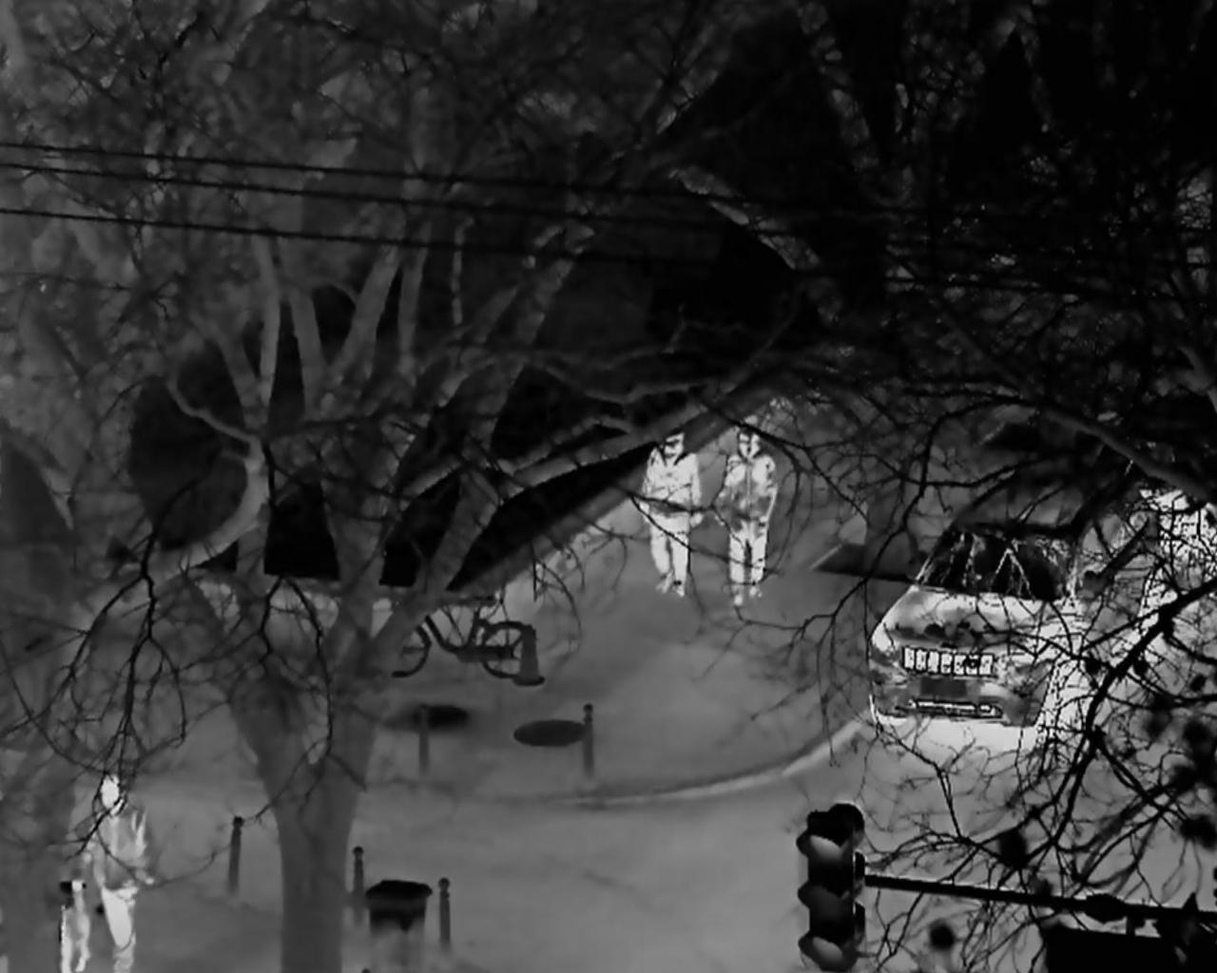person: (84, 773, 159, 973), (712, 428, 778, 607), (637, 430, 702, 598)
